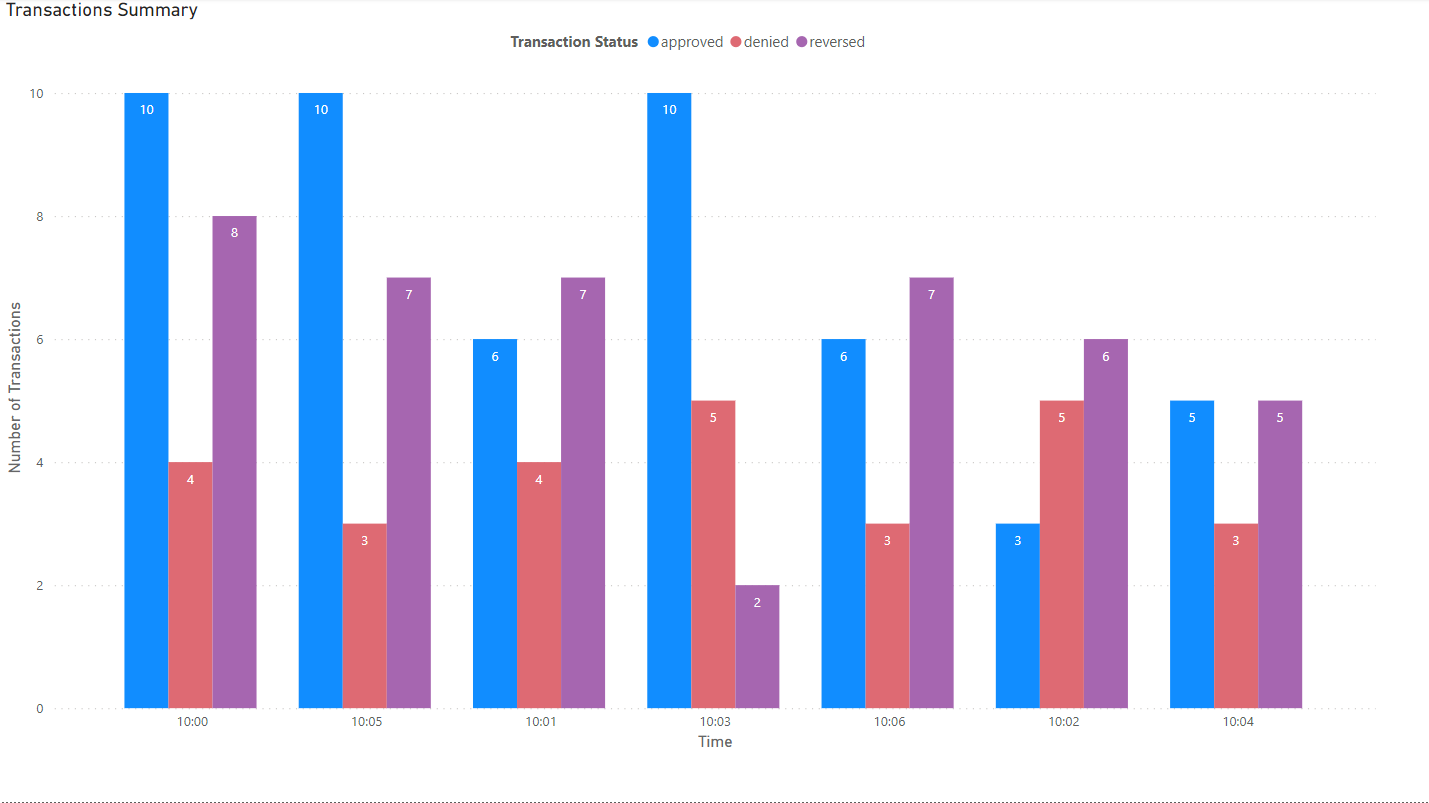

Layout of this report page (visuals, bound fields, positions):
{"tool":"powerbi","page":{"name":"Página 1","canvas":[1280,720],"ordinal":0},"visuals":[{"type":"clusteredColumnChart","title":"Transactions Summary","fields":{"Series":["transactions.status"],"Y":["CountNonNull(transactions.status)"],"Category":["transactions.time - Copiar"]},"box":[0,0,1236.7,678.8],"z":0}]}

Visuals, with their boxes in screenshot pixels (x1, y1, x2, y2), scaled from the page's 1280x720 canvas onto the 1429x803 screenshot:
"Transactions Summary" clusteredColumnChart: bbox=(0, 0, 1381, 757)
